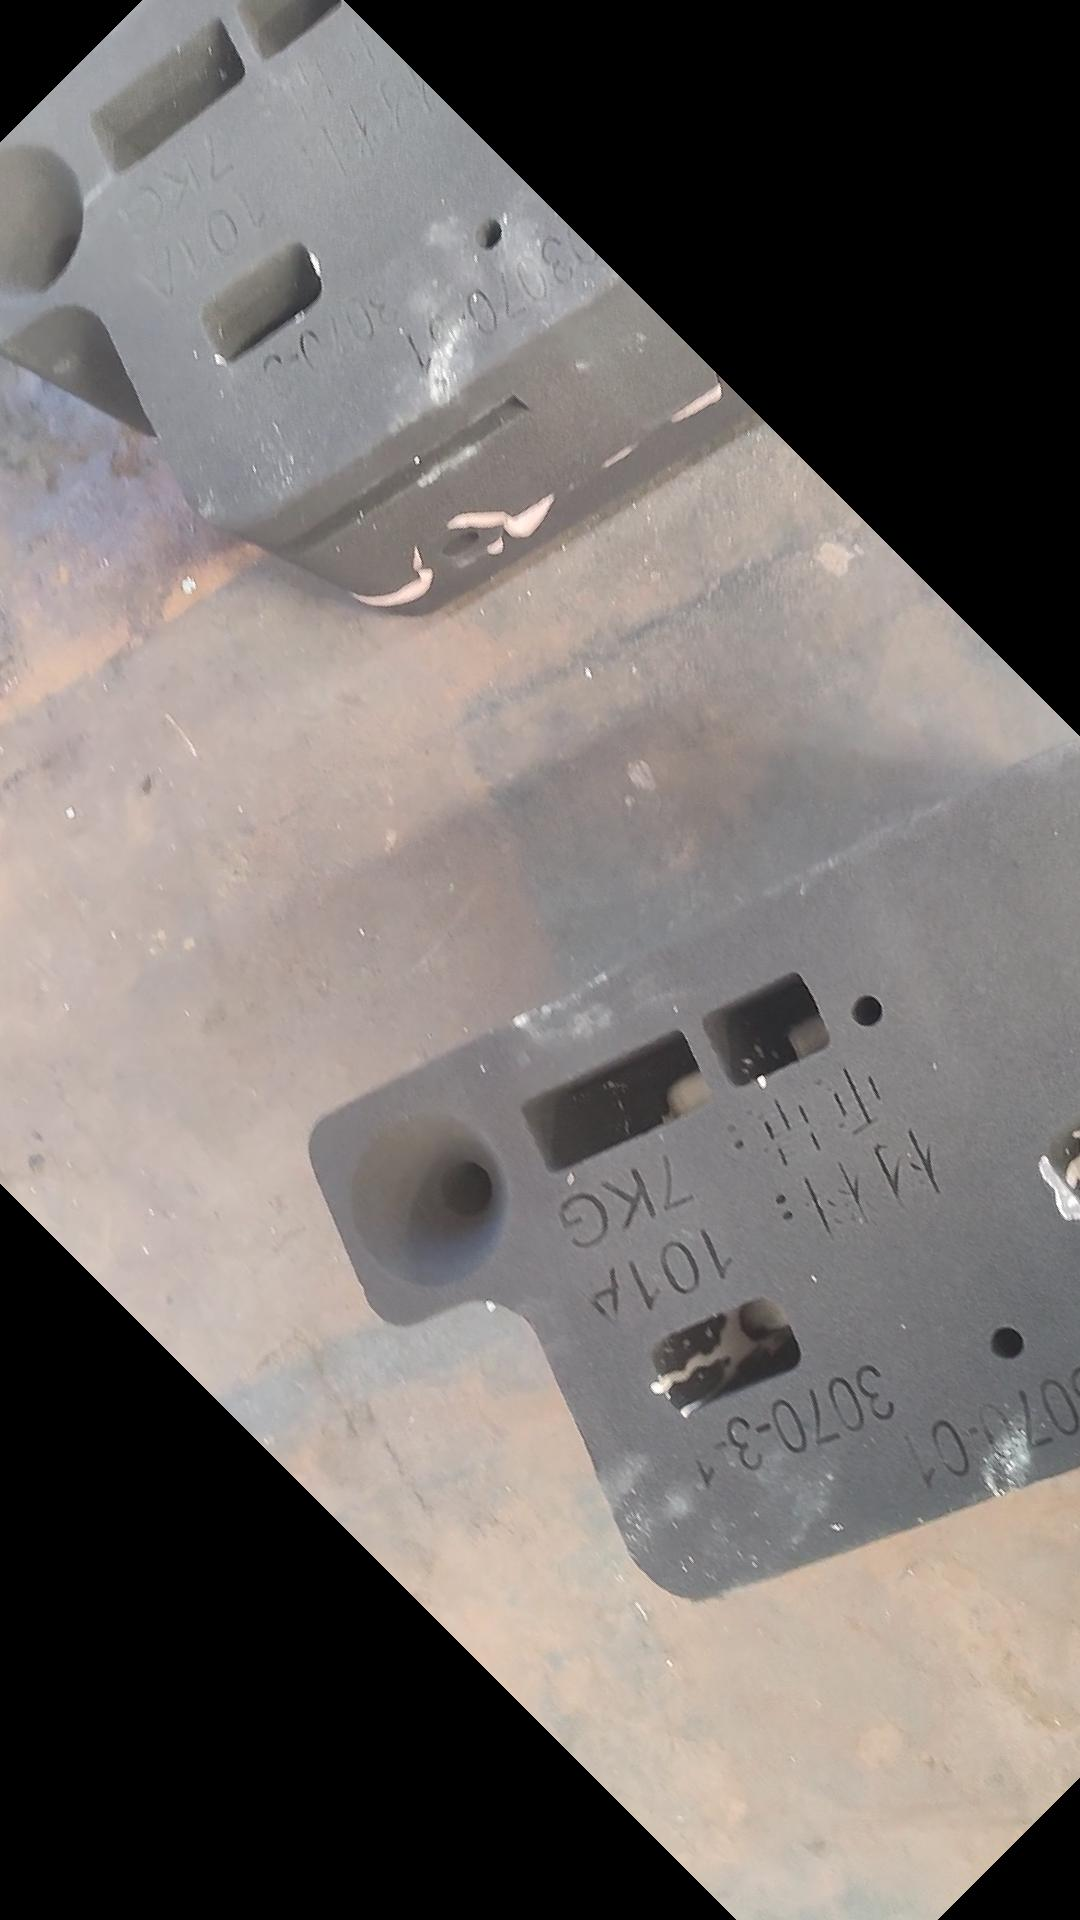pouring hole: (349, 1112, 512, 1287), (1, 140, 84, 297)
